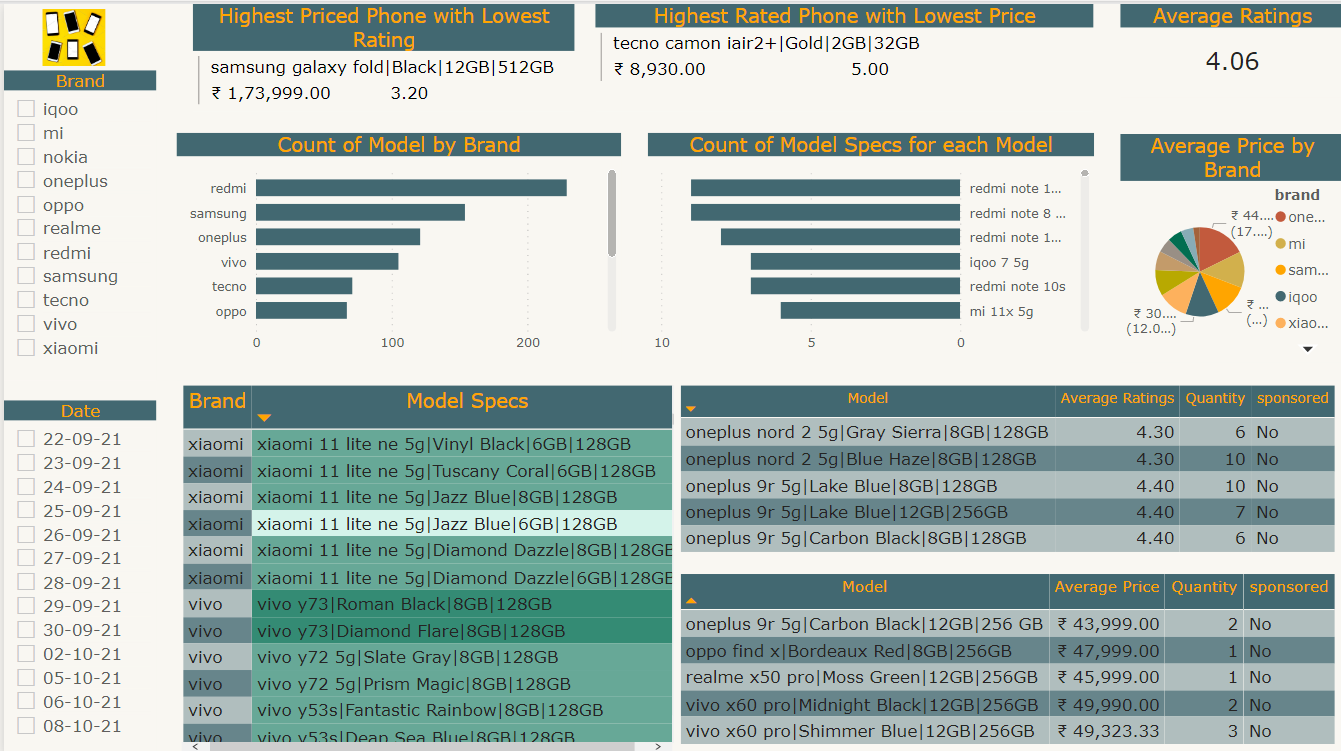

This screenshot's page, from the dashboard's own definition file:
{"tool":"powerbi","page":{"name":"Page 1","canvas":[1280,720],"ordinal":0},"visuals":[{"type":"barChart","title":"Count of Model by Brand","fields":{"Category":["public android_phones.brand"],"Y":["CountNonNull(public android_phones.model)"]},"box":[165.2,123.6,424.8,218],"z":0},{"type":"clusteredBarChart","title":"Count of Model Specs for each Model","fields":{"Category":["public android_phones.model"],"Y":["CountNonNull(public model_specs_ids.model_specs)"]},"box":[615,123.6,426.2,218],"z":1000},{"type":"slicer","title":"Brand","fields":{"Values":["public android_phones.brand"]},"box":[0,63.9,145.8,295.7],"z":2000},{"type":"slicer","title":"Date","fields":{"Values":["public android_phones.ad_date"]},"box":[0,379.1,145.6,340.6],"z":3000},{"type":"card","title":"Average Ratings","fields":{"Values":["Avg(public android_phones.ratings)"]},"box":[1065.8,0,214.2,89.3],"z":4000},{"type":"pieChart","title":"Average Price by Brand","fields":{"Category":["public android_phones.brand"],"Y":["Avg(public android_phones.price)"]},"box":[1065.8,123.6,214.2,218.4],"z":5000},{"type":"tableEx","fields":{"Values":["public android_phones.brand","public android_phones.model_specs"]},"box":[165.2,359.6,487.3,359.6],"z":6000},{"type":"tableEx","fields":{"Values":["public android_phones.model_specs","Avg(public android_phones.ratings)","CountNonNull(public android_phones.model_specs)","public android_phones.sponsored"]},"box":[640,359.6,640,180.5],"z":7000},{"type":"tableEx","fields":{"Values":["public android_phones.model_specs","public android_phones.price","CountNonNull(public android_phones.model_specs)","public android_phones.sponsored"]},"box":[640,540,640,180.5],"z":8000},{"type":"multiRowCard","title":"Highest Priced Phone with Lowest Rating","fields":{"Values":["public android_phones.model_specs","public android_phones.price","Sum(public android_phones.ratings)"]},"box":[180.5,0,365.1,102.7],"z":9000},{"type":"multiRowCard","title":"Highest Rated Phone with Lowest Price","fields":{"Values":["public android_phones.model_specs","public android_phones.price","Max(public android_phones.ratings)"]},"box":[565,0,476.2,102.7],"z":10000},{"type":"image","box":[0,0,133.3,63.9],"z":11000}]}

Visuals, with their boxes in screenshot pixels (x1, y1, x2, y2), scaled from the page's 1280x720 canvas onto the 1341x751 screenshot:
"Count of Model by Brand" barChart: <box>173,129,618,356</box>
"Count of Model Specs for each Model" clusteredBarChart: <box>644,129,1091,356</box>
"Brand" slicer: <box>0,67,153,375</box>
"Date" slicer: <box>0,395,153,750</box>
"Average Ratings" card: <box>1117,0,1340,93</box>
"Average Price by Brand" pieChart: <box>1117,129,1340,357</box>
tableEx - public android_phones.brand x public android_phones.model_specs: <box>173,375,684,750</box>
tableEx - public android_phones.model_specs x Avg(public android_phones.ratings): <box>670,375,1340,563</box>
tableEx - public android_phones.model_specs x public android_phones.price: <box>670,563,1340,750</box>
"Highest Priced Phone with Lowest Rating" multiRowCard: <box>189,0,572,107</box>
"Highest Rated Phone with Lowest Price" multiRowCard: <box>592,0,1091,107</box>
image: <box>0,0,140,67</box>
